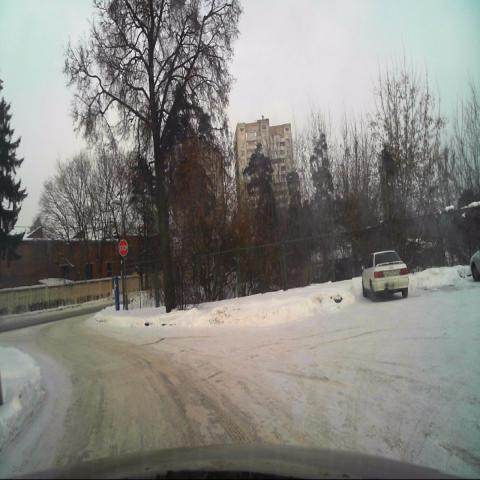2_5: (118, 239, 128, 257)
